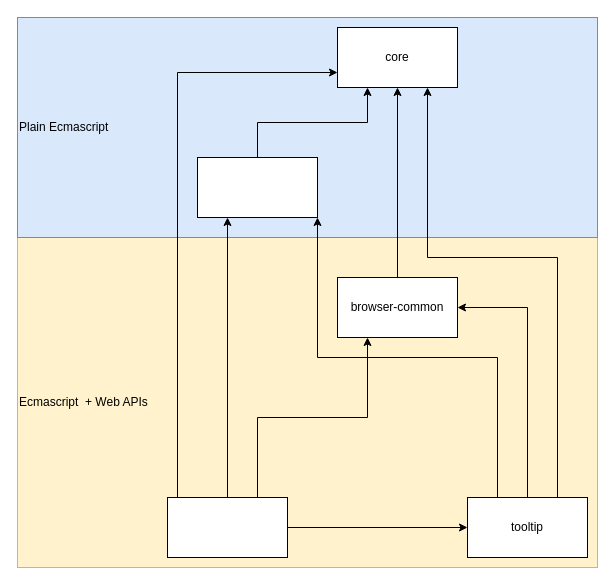
The diagram is 615 pixels wide and 585 high, and some of its shapes have lost their labels. Here are the shapes that lost their labels. From the top down, the centre of each, then its label:
At (x=257, y=187): "ygoprodeck".
At (x=227, y=527): "application".
